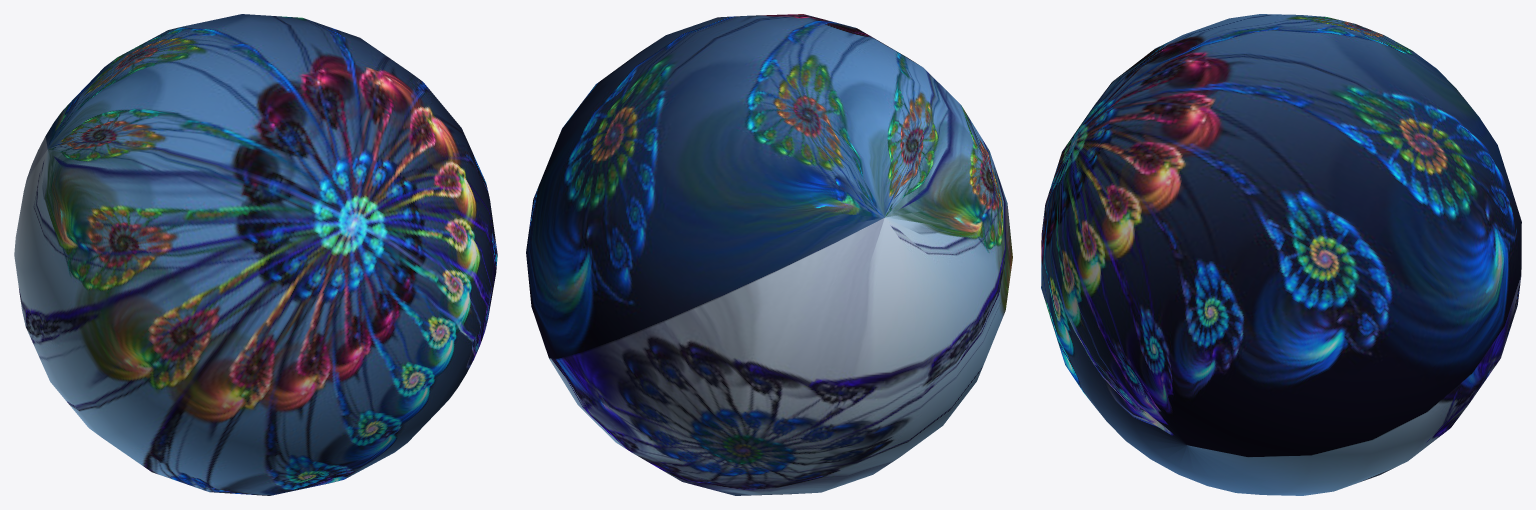
The picture shows the model from 3 angles, left to right: view 1: azimuth 30°, elevation 25°; view 2: azimuth 150°, elevation 25°; view 3: azimuth 270°, elevation 25°; orthographic projection.
Visible parts, largest first — view 1: Sphere; view 2: Sphere; view 3: Sphere.
Boxes of the visible parts, x1,y1,x2,y2 form: Sphere: (14,14,497,495); Sphere: (526,14,1012,495); Sphere: (1041,14,1521,495).
Size of the model in its own units: 199 by 200 by 198.
Materials: 1 (1 with a texture image).
